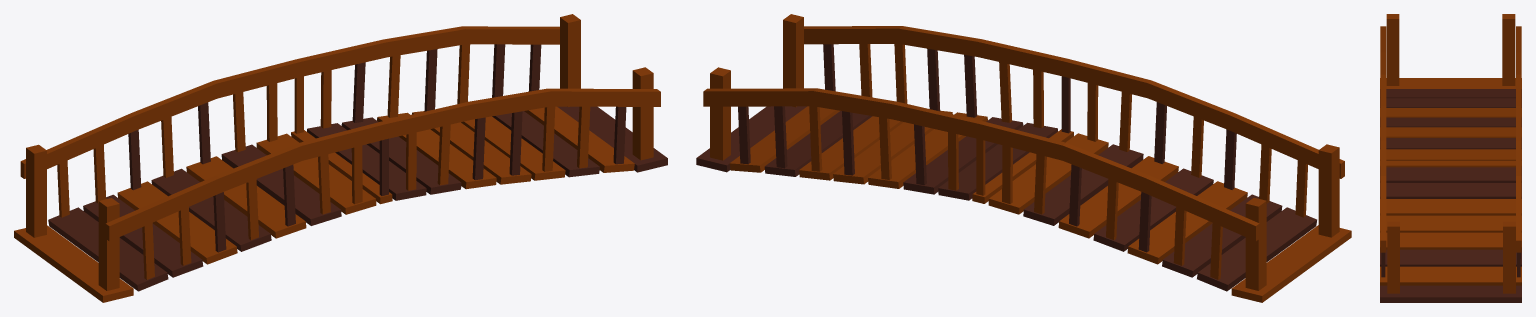
Rendered from Ponte (1).fbx.
The picture shows the model from 3 angles, left to right: view 1: azimuth 30°, elevation 25°; view 2: azimuth 150°, elevation 25°; view 3: azimuth 270°, elevation 25°; orthographic projection. The views are drawn at different scales.
Visible parts, largest first — view 1: Ponte; view 2: Ponte; view 3: Ponte.
Part boxes in pixels (box(x1,y1,x2,y2)): Ponte: box(14, 14, 667, 302); Ponte: box(696, 14, 1351, 302); Ponte: box(1380, 14, 1521, 302).
Bounding box in the file's own units: 958 × 179 × 262.
